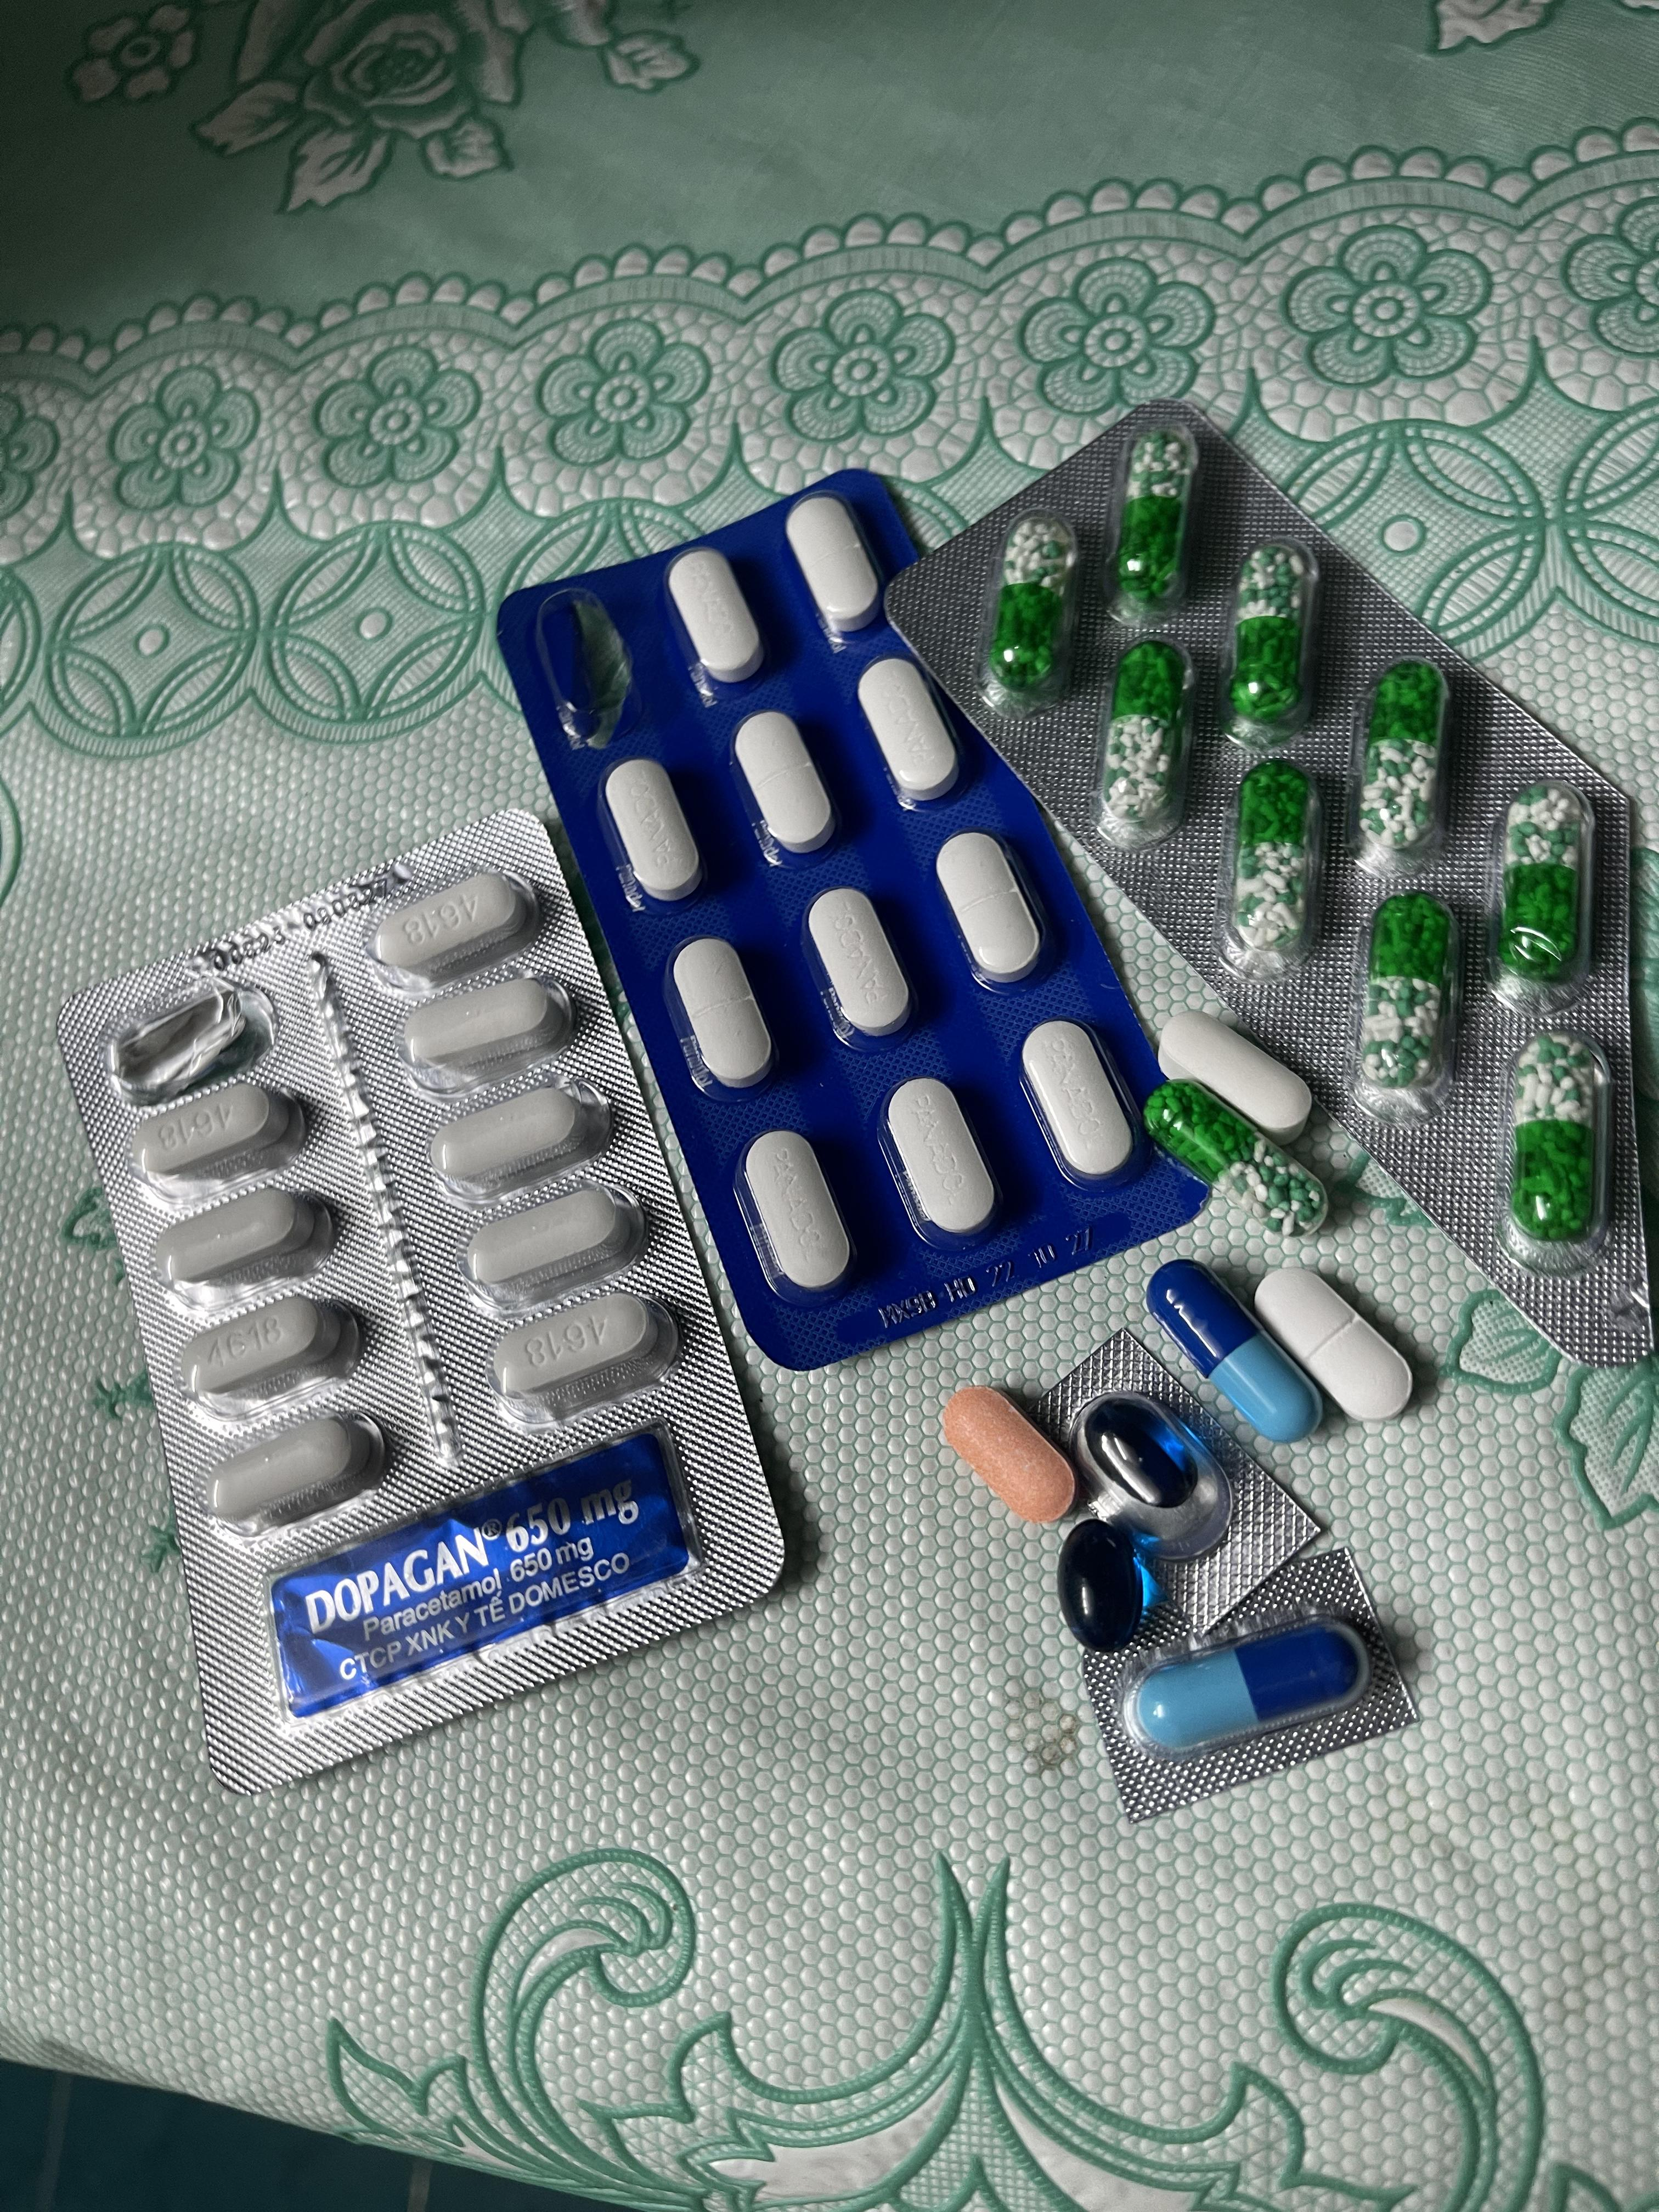Lincomyxin_500mg: (1056, 1517, 1152, 1656), (1087, 1404, 1190, 1508)
Loratadine_10mg: (941, 1386, 1075, 1524)
Paracetamol_350mg: (1260, 1266, 1413, 1418), (1019, 1019, 1143, 1188), (884, 1076, 999, 1244), (739, 1134, 854, 1298), (934, 831, 1044, 986), (669, 935, 777, 1090), (805, 885, 913, 1038), (857, 657, 958, 805), (734, 712, 835, 859), (786, 495, 884, 639), (603, 758, 701, 902), (666, 550, 762, 685)
Paracetamol_500mg: (484, 1289, 669, 1430), (171, 1285, 359, 1420), (200, 1413, 387, 1538), (153, 1174, 333, 1303), (432, 1075, 610, 1204), (462, 1183, 638, 1312), (1157, 1007, 1312, 1150), (401, 977, 575, 1096), (132, 1075, 288, 1179), (376, 871, 533, 974)
Paracetamol_650mg: (1147, 1083, 1328, 1242), (1507, 1036, 1603, 1252), (1356, 897, 1453, 1103), (1223, 540, 1319, 742), (1497, 787, 1584, 988), (1229, 768, 1314, 963), (1359, 665, 1445, 859), (1103, 644, 1188, 831), (988, 517, 1072, 695), (1115, 425, 1190, 604)
pill: (1119, 1613, 1371, 1761), (1152, 1264, 1326, 1439)
